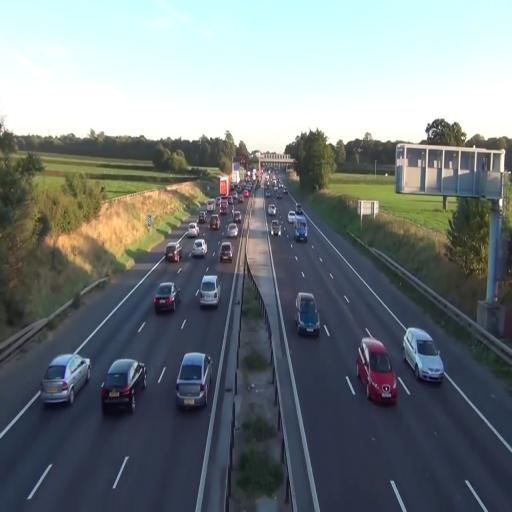vehicle: (356, 336, 398, 404), (100, 357, 147, 416), (40, 352, 90, 407), (403, 327, 444, 385), (175, 352, 212, 410), (294, 292, 320, 336), (153, 279, 180, 313), (198, 274, 220, 308), (218, 240, 234, 269), (166, 242, 182, 264), (295, 215, 308, 242), (192, 238, 208, 258), (219, 240, 233, 262), (226, 220, 240, 238), (271, 221, 281, 237)
